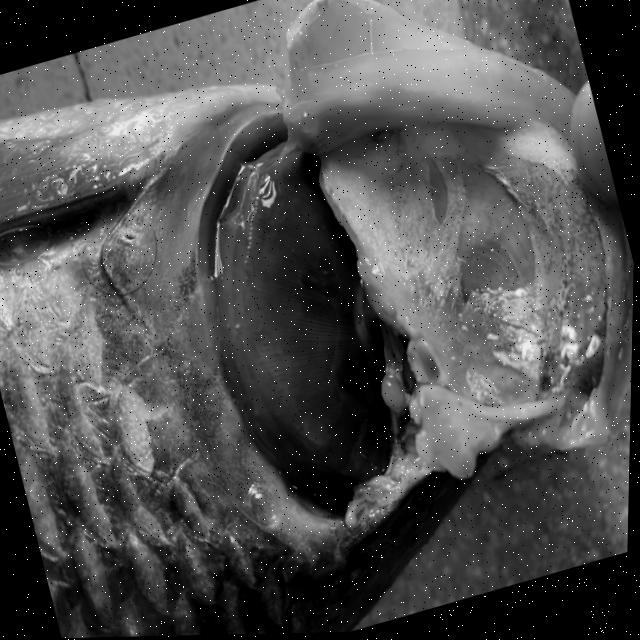Fresh: (130, 88, 478, 599)
